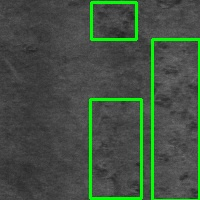rolled-in_scale: (152, 39, 199, 200), (91, 99, 141, 198), (91, 2, 136, 39)
